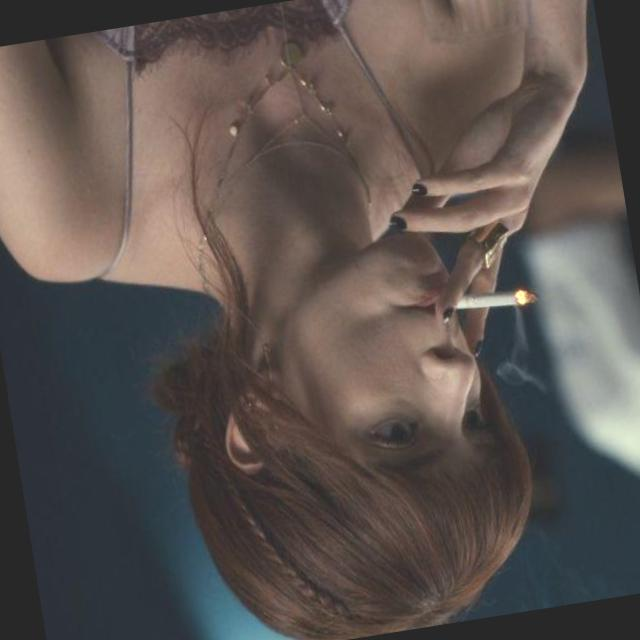smoke: (398, 239, 562, 350)
